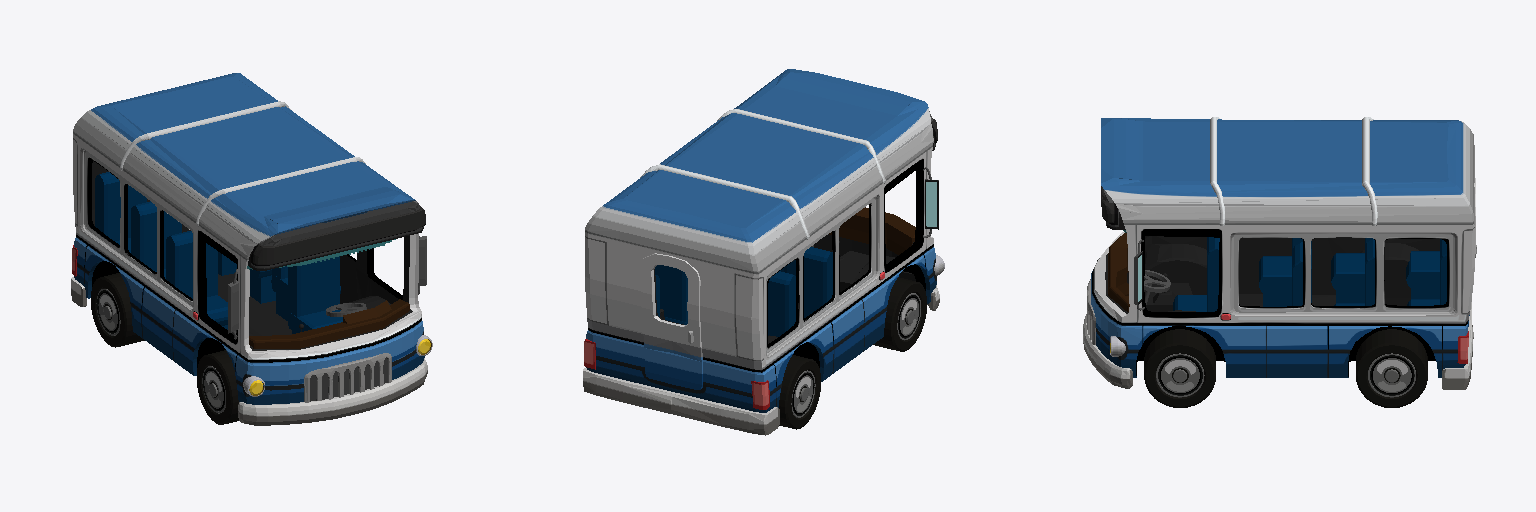
3 renders of one model, left to right at view 1: azimuth 30°, elevation 25°; view 2: azimuth 150°, elevation 25°; view 3: azimuth 270°, elevation 25°, orthographic.
Visible parts, largest first — view 1: Object_55_Object_26.001, Object_10_Object_3.002, Object_28_Object_12.001, Object_38_Object_17.001, Object_32_Object_14.001, Object_50_Object_23.001, Object_34_Object_15.001, Object_30_Object_13.001, Object_12_Object_4.001, Object_18_Object_7.001, Object_40_Object_18.001, Object_26_Object_11.001 (+3 smaller); view 2: Object_55_Object_26.001, Object_48_Object_22.001, Object_10_Object_3.002, Object_16_Object_6.001, Object_12_Object_4.001, Object_28_Object_12.001, Object_40_Object_18.001, Object_50_Object_23.001, Object_18_Object_7.001, Object_42_Object_19.001, Object_20_Object_8.001, Object_14_Object_5.001 (+1 smaller); view 3: Object_55_Object_26.001, Object_28_Object_12.001, Object_10_Object_3.002, Object_22_Object_9.001, Object_44_Object_20.001, Object_46_Object_21.001, Object_24_Object_10.001, Object_12_Object_4.001, Object_50_Object_23.001, Object_38_Object_17.001, Object_16_Object_6.001.
Part boxes in pixels (left/top/right/bottom): Object_55_Object_26.001: left=73, top=73, right=424, bottom=404; Object_10_Object_3.002: left=95, top=172, right=342, bottom=333; Object_28_Object_12.001: left=92, top=161, right=412, bottom=350; Object_38_Object_17.001: left=238, top=358, right=427, bottom=425; Object_32_Object_14.001: left=251, top=207, right=425, bottom=265; Object_50_Object_23.001: left=249, top=299, right=409, bottom=348; Object_34_Object_15.001: left=304, top=353, right=391, bottom=402; Object_30_Object_13.001: left=248, top=201, right=423, bottom=270; Object_12_Object_4.001: left=120, top=101, right=365, bottom=226; Object_18_Object_7.001: left=91, top=273, right=144, bottom=347; Object_40_Object_18.001: left=197, top=350, right=238, bottom=424; Object_26_Object_11.001: left=228, top=236, right=426, bottom=339; Object_55_Object_26.001: left=585, top=69, right=936, bottom=412; Object_48_Object_22.001: left=640, top=253, right=702, bottom=389; Object_10_Object_3.002: left=655, top=247, right=832, bottom=336; Object_16_Object_6.001: left=583, top=368, right=779, bottom=435; Object_12_Object_4.001: left=640, top=109, right=885, bottom=239; Object_28_Object_12.001: left=660, top=234, right=915, bottom=343; Object_40_Object_18.001: left=873, top=277, right=926, bottom=351; Object_50_Object_23.001: left=829, top=207, right=915, bottom=254; Object_18_Object_7.001: left=779, top=355, right=820, bottom=429; Object_42_Object_19.001: left=897, top=293, right=920, bottom=340; Object_20_Object_8.001: left=791, top=370, right=815, bottom=417; Object_14_Object_5.001: left=584, top=339, right=769, bottom=409; Object_55_Object_26.001: left=1091, top=118, right=1474, bottom=377; Object_28_Object_12.001: left=1105, top=236, right=1439, bottom=313; Object_10_Object_3.002: left=1173, top=237, right=1446, bottom=311; Object_22_Object_9.001: left=1356, top=329, right=1427, bottom=407; Object_44_Object_20.001: left=1144, top=329, right=1215, bottom=407; Object_46_Object_21.001: left=1156, top=353, right=1204, bottom=397; Object_24_Object_10.001: left=1368, top=353, right=1415, bottom=397; Object_12_Object_4.001: left=1210, top=117, right=1377, bottom=225; Object_50_Object_23.001: left=1108, top=233, right=1129, bottom=311; Object_38_Object_17.001: left=1083, top=314, right=1132, bottom=388; Object_16_Object_6.001: left=1442, top=302, right=1473, bottom=389.
Bounding box in the file's own units: 2.81 × 2.91 × 4.83.
4 materials, 2 textured.